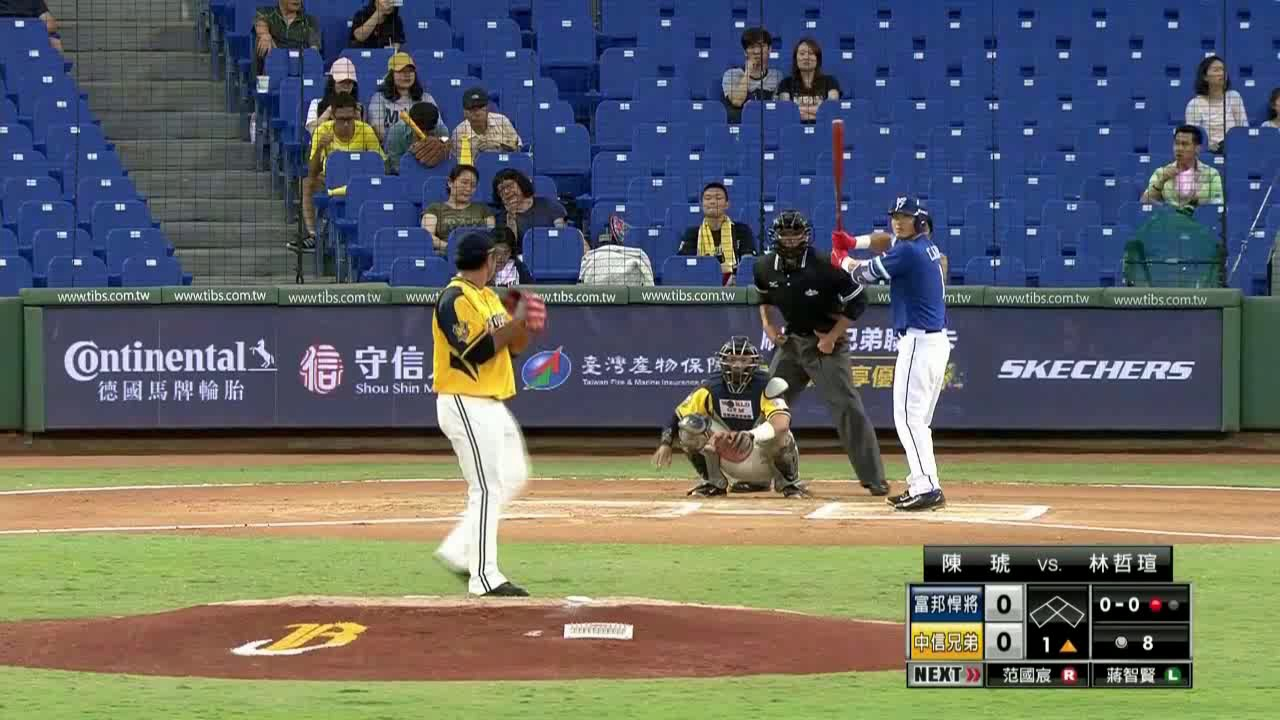base: (1027, 587, 1089, 630)
bat: (831, 119, 848, 233)
out: (1144, 593, 1182, 615)
score1: (986, 591, 1017, 617)
score2: (986, 624, 1023, 660)
session: (1027, 626, 1089, 655)
strikeball: (1093, 586, 1146, 619)
total: (1106, 626, 1158, 654)
